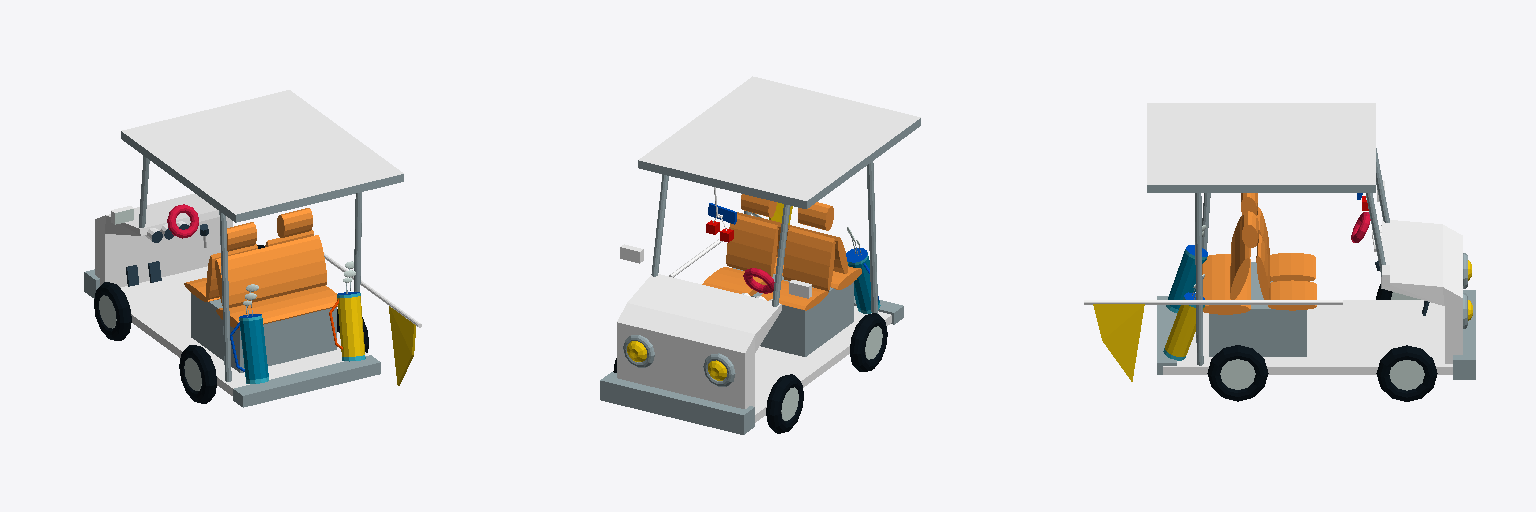
3 views of the same model, side by side, from view 1: azimuth 30°, elevation 25°; view 2: azimuth 150°, elevation 25°; view 3: azimuth 270°, elevation 25° (orthographic).
Parts seen in each view (by area): view 1: group[number redacted], group[number redacted], group[number redacted], group[number redacted], group[number redacted], group[number redacted], group[number redacted], group[number redacted], group[number redacted], group[number redacted], group[number redacted], group[number redacted] (+6 smaller); view 2: group[number redacted], group[number redacted], group[number redacted], group[number redacted], group[number redacted], group[number redacted], group[number redacted], group[number redacted], group[number redacted], group[number redacted], group[number redacted], group[number redacted] (+7 smaller); view 3: group[number redacted], group[number redacted], group[number redacted], group[number redacted], group[number redacted], group[number redacted], group[number redacted], group[number redacted], group[number redacted], group[number redacted], group[number redacted], group[number redacted] (+8 smaller).
Part boxes in pixels (bbox=[...]): group[number redacted]: bbox=[121, 90, 403, 222]; group[number redacted]: bbox=[95, 194, 232, 287]; group[number redacted]: bbox=[121, 266, 368, 395]; group[number redacted]: bbox=[215, 235, 326, 307]; group[number redacted]: bbox=[191, 293, 336, 372]; group[number redacted]: bbox=[233, 355, 380, 407]; group[number redacted]: bbox=[216, 285, 337, 329]; group[number redacted]: bbox=[324, 253, 421, 385]; group[number redacted]: bbox=[239, 314, 268, 383]; group[number redacted]: bbox=[337, 292, 365, 361]; group[number redacted]: bbox=[179, 345, 216, 403]; group[number redacted]: bbox=[94, 282, 131, 340]; group[number redacted]: bbox=[638, 76, 920, 208]; group[number redacted]: bbox=[617, 274, 781, 408]; group[number redacted]: bbox=[600, 372, 754, 434]; group[number redacted]: bbox=[733, 268, 853, 356]; group[number redacted]: bbox=[755, 306, 891, 422]; group[number redacted]: bbox=[783, 227, 835, 291]; group[number redacted]: bbox=[726, 214, 778, 276]; group[number redacted]: bbox=[766, 374, 803, 433]; group[number redacted]: bbox=[850, 313, 887, 371]; group[number redacted]: bbox=[867, 161, 877, 313]; group[number redacted]: bbox=[846, 248, 880, 313]; group[number redacted]: bbox=[702, 267, 766, 295]; group[number redacted]: bbox=[1147, 103, 1375, 192]; group[number redacted]: bbox=[1163, 300, 1452, 374]; group[number redacted]: bbox=[1381, 219, 1462, 363]; group[number redacted]: bbox=[1209, 262, 1306, 356]; group[number redacted]: bbox=[1084, 300, 1342, 381]; group[number redacted]: bbox=[1202, 254, 1250, 314]; group[number redacted]: bbox=[1376, 345, 1437, 401]; group[number redacted]: bbox=[1207, 345, 1268, 401]; group[number redacted]: bbox=[1163, 292, 1204, 360]; group[number redacted]: bbox=[1269, 253, 1315, 281]; group[number redacted]: bbox=[1453, 290, 1475, 379]; group[number redacted]: bbox=[1195, 193, 1203, 365].
Size of the model in its own units: 1.96 by 2.23 by 3.58.